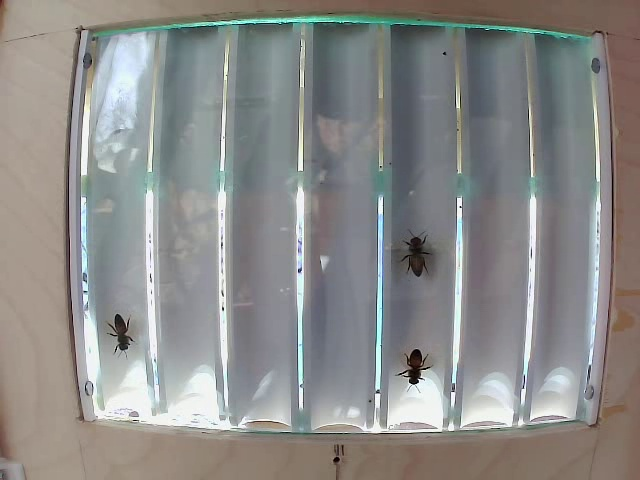bee: (383, 235, 440, 290), (397, 340, 440, 387), (108, 306, 137, 349)
